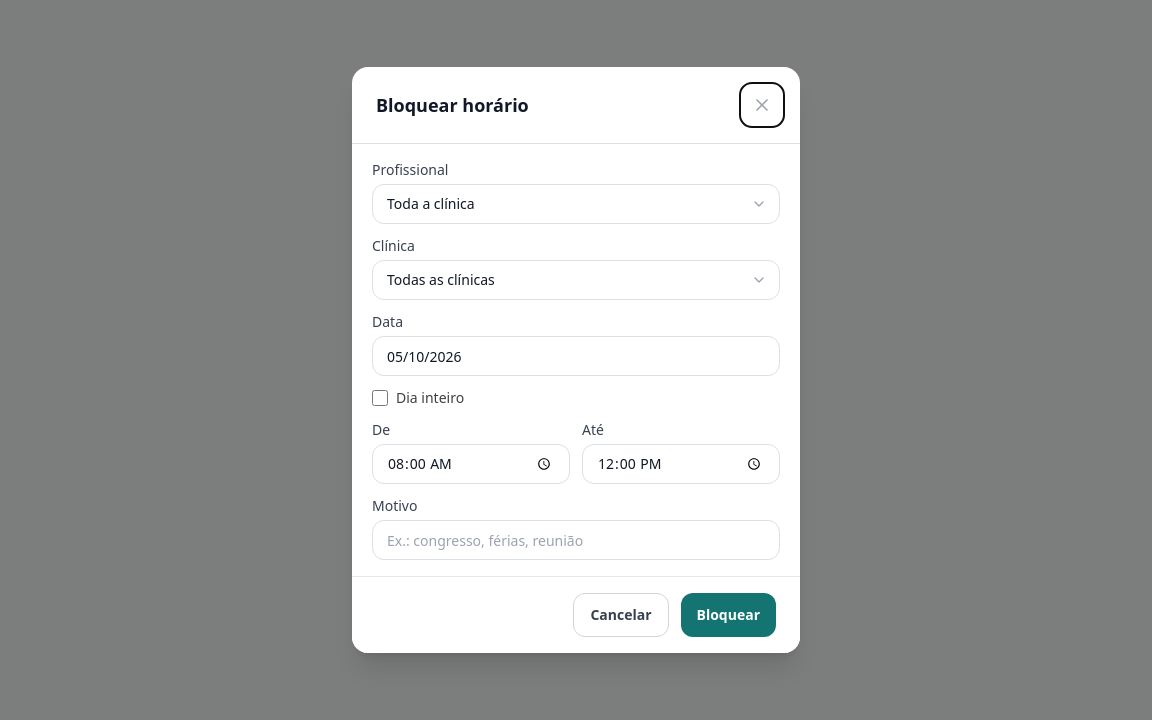
it: ScheduleBlockModal (MIG-05) › mostra o erro da API
This screenshot has width=1152, height=720.
Click the button "Bloquear": (728, 615) 680,593 -> 776,637
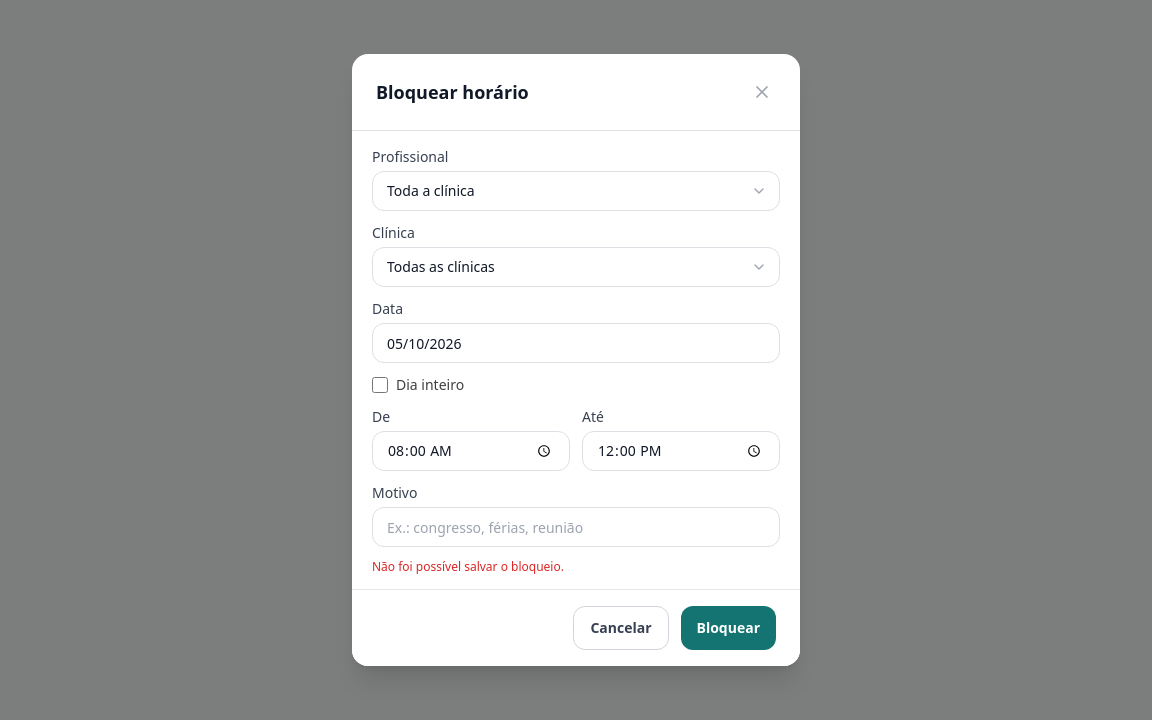
Expected: the message reads "Não foi possível salvar o bloqueio.", 372,558 -> 564,575
